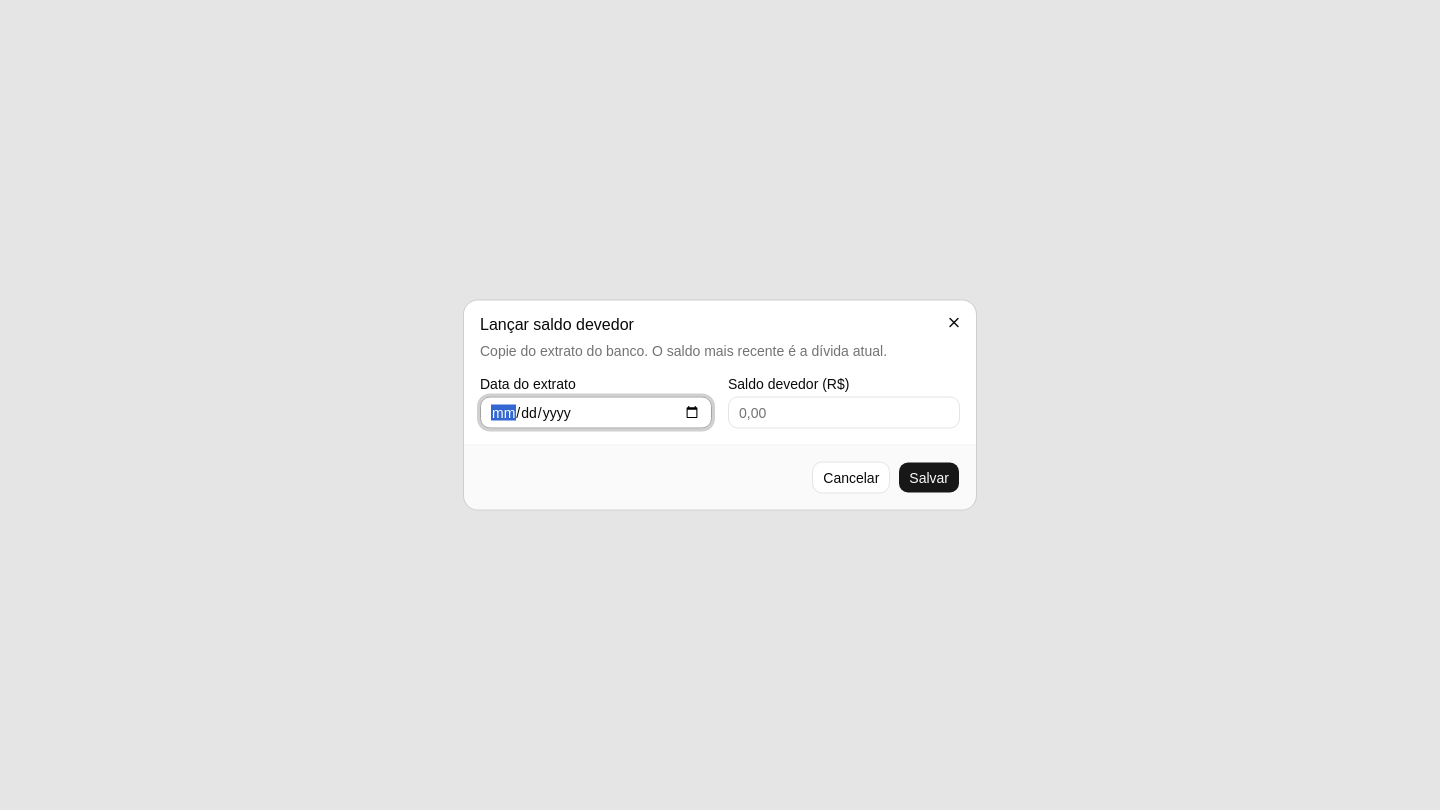
BalanceDialog › mostra no campo o erro devolvido pela API, em português
Type "2026-08-31" into the date field labelled "Data do extrato" at (596, 412), box [480,396,712,428]
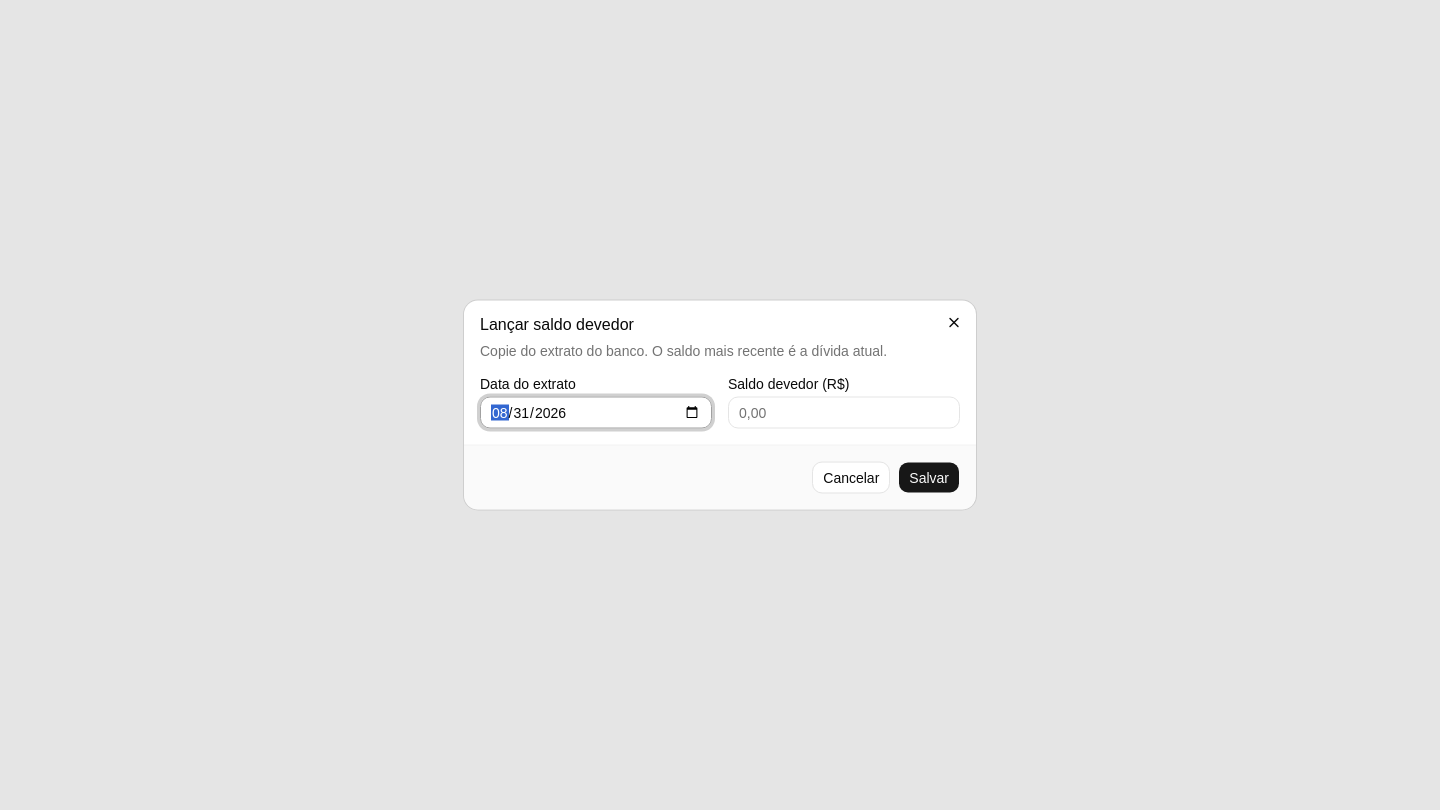
Type "10,00" into the field labelled "Saldo devedor (R$)" at (844, 412), box [728,396,960,428]
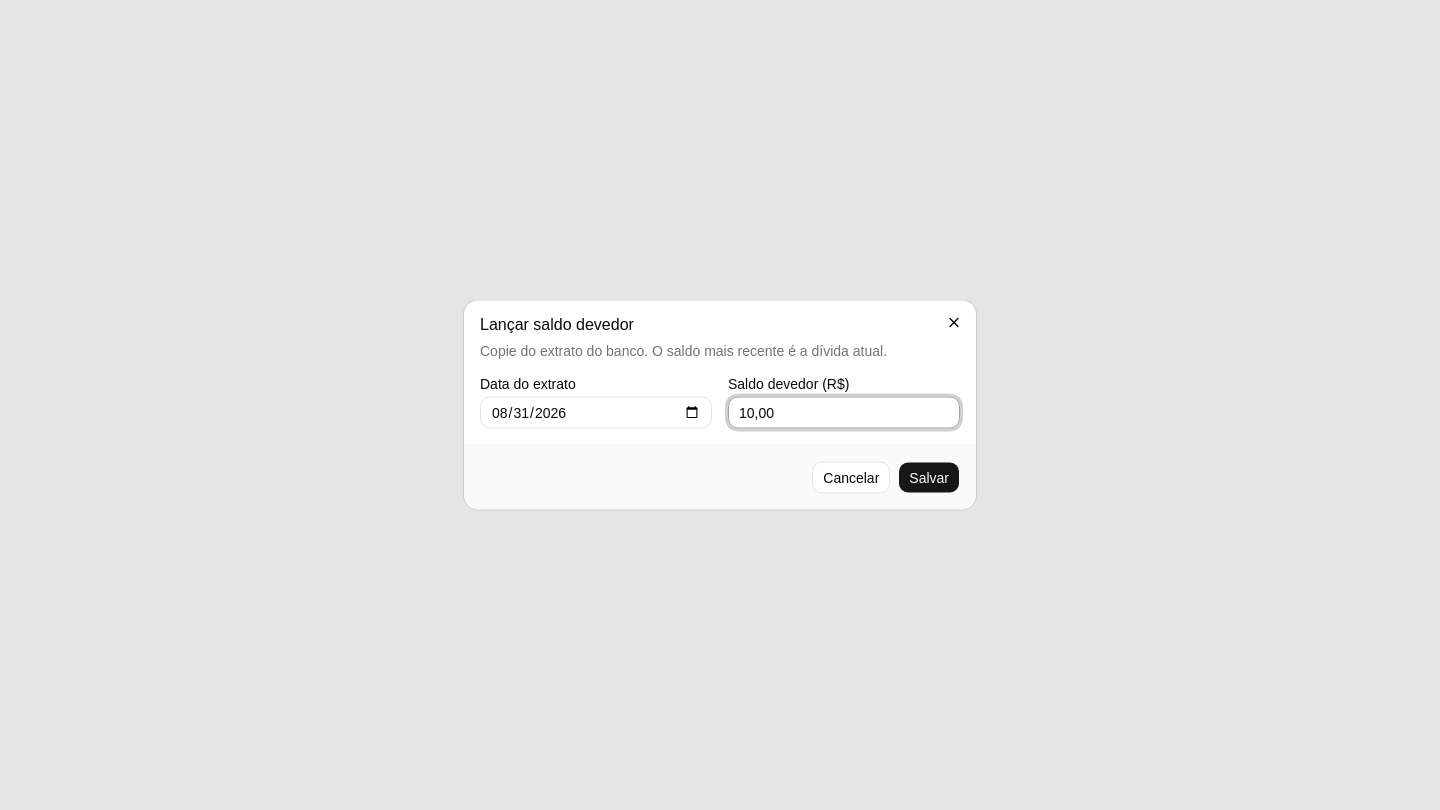
Click the button "Salvar" at (929, 478), box [898,462,960,494]
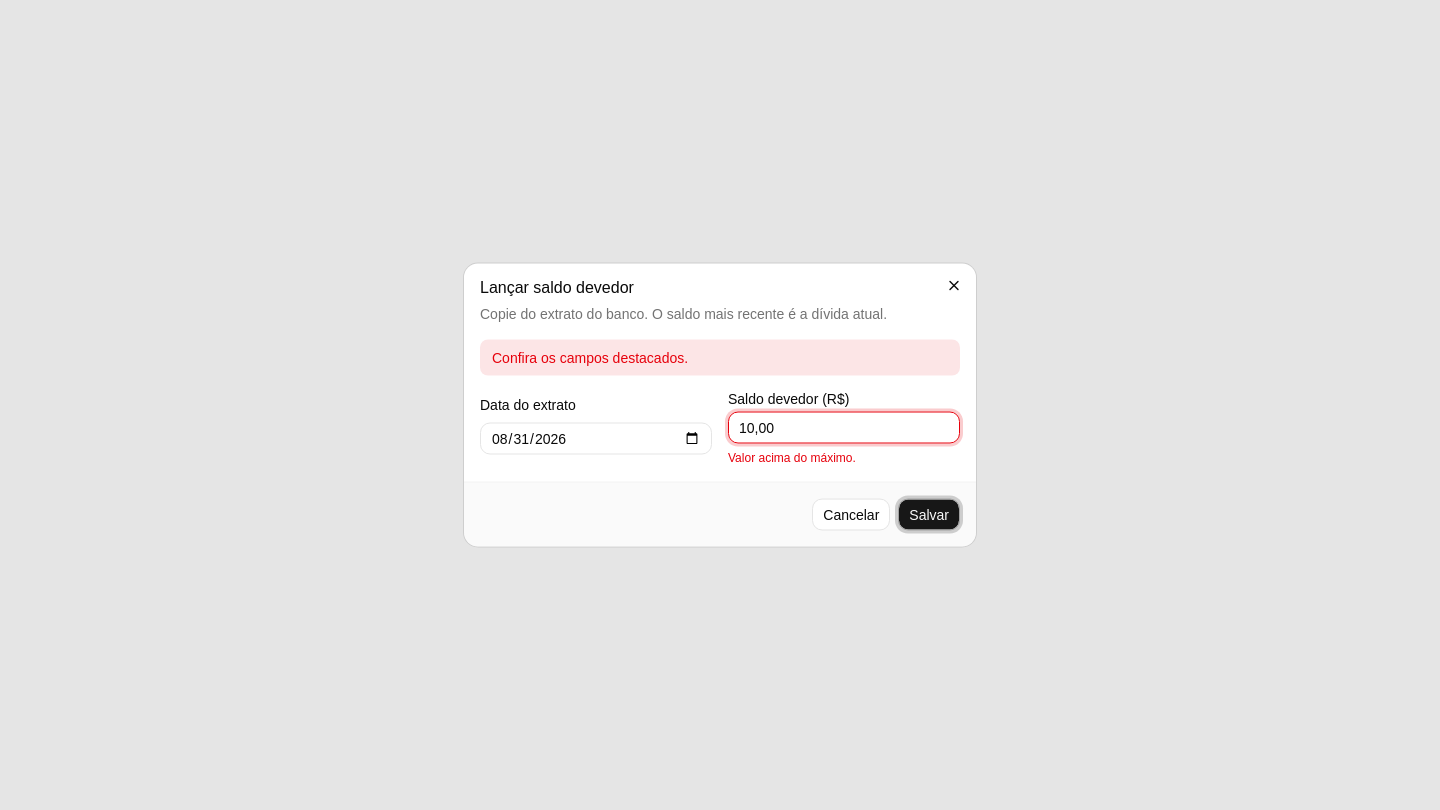
Expected: the text "Valor acima do máximo." is shown, [728,450,856,464]
